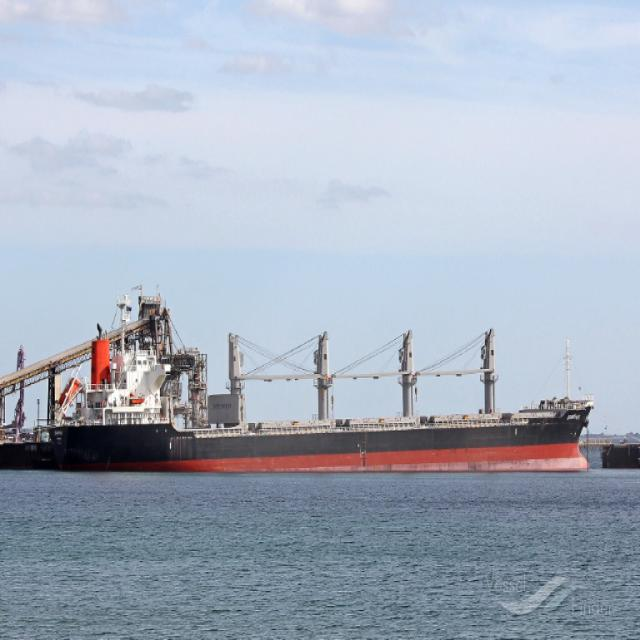OCR: (562, 406, 586, 423)
